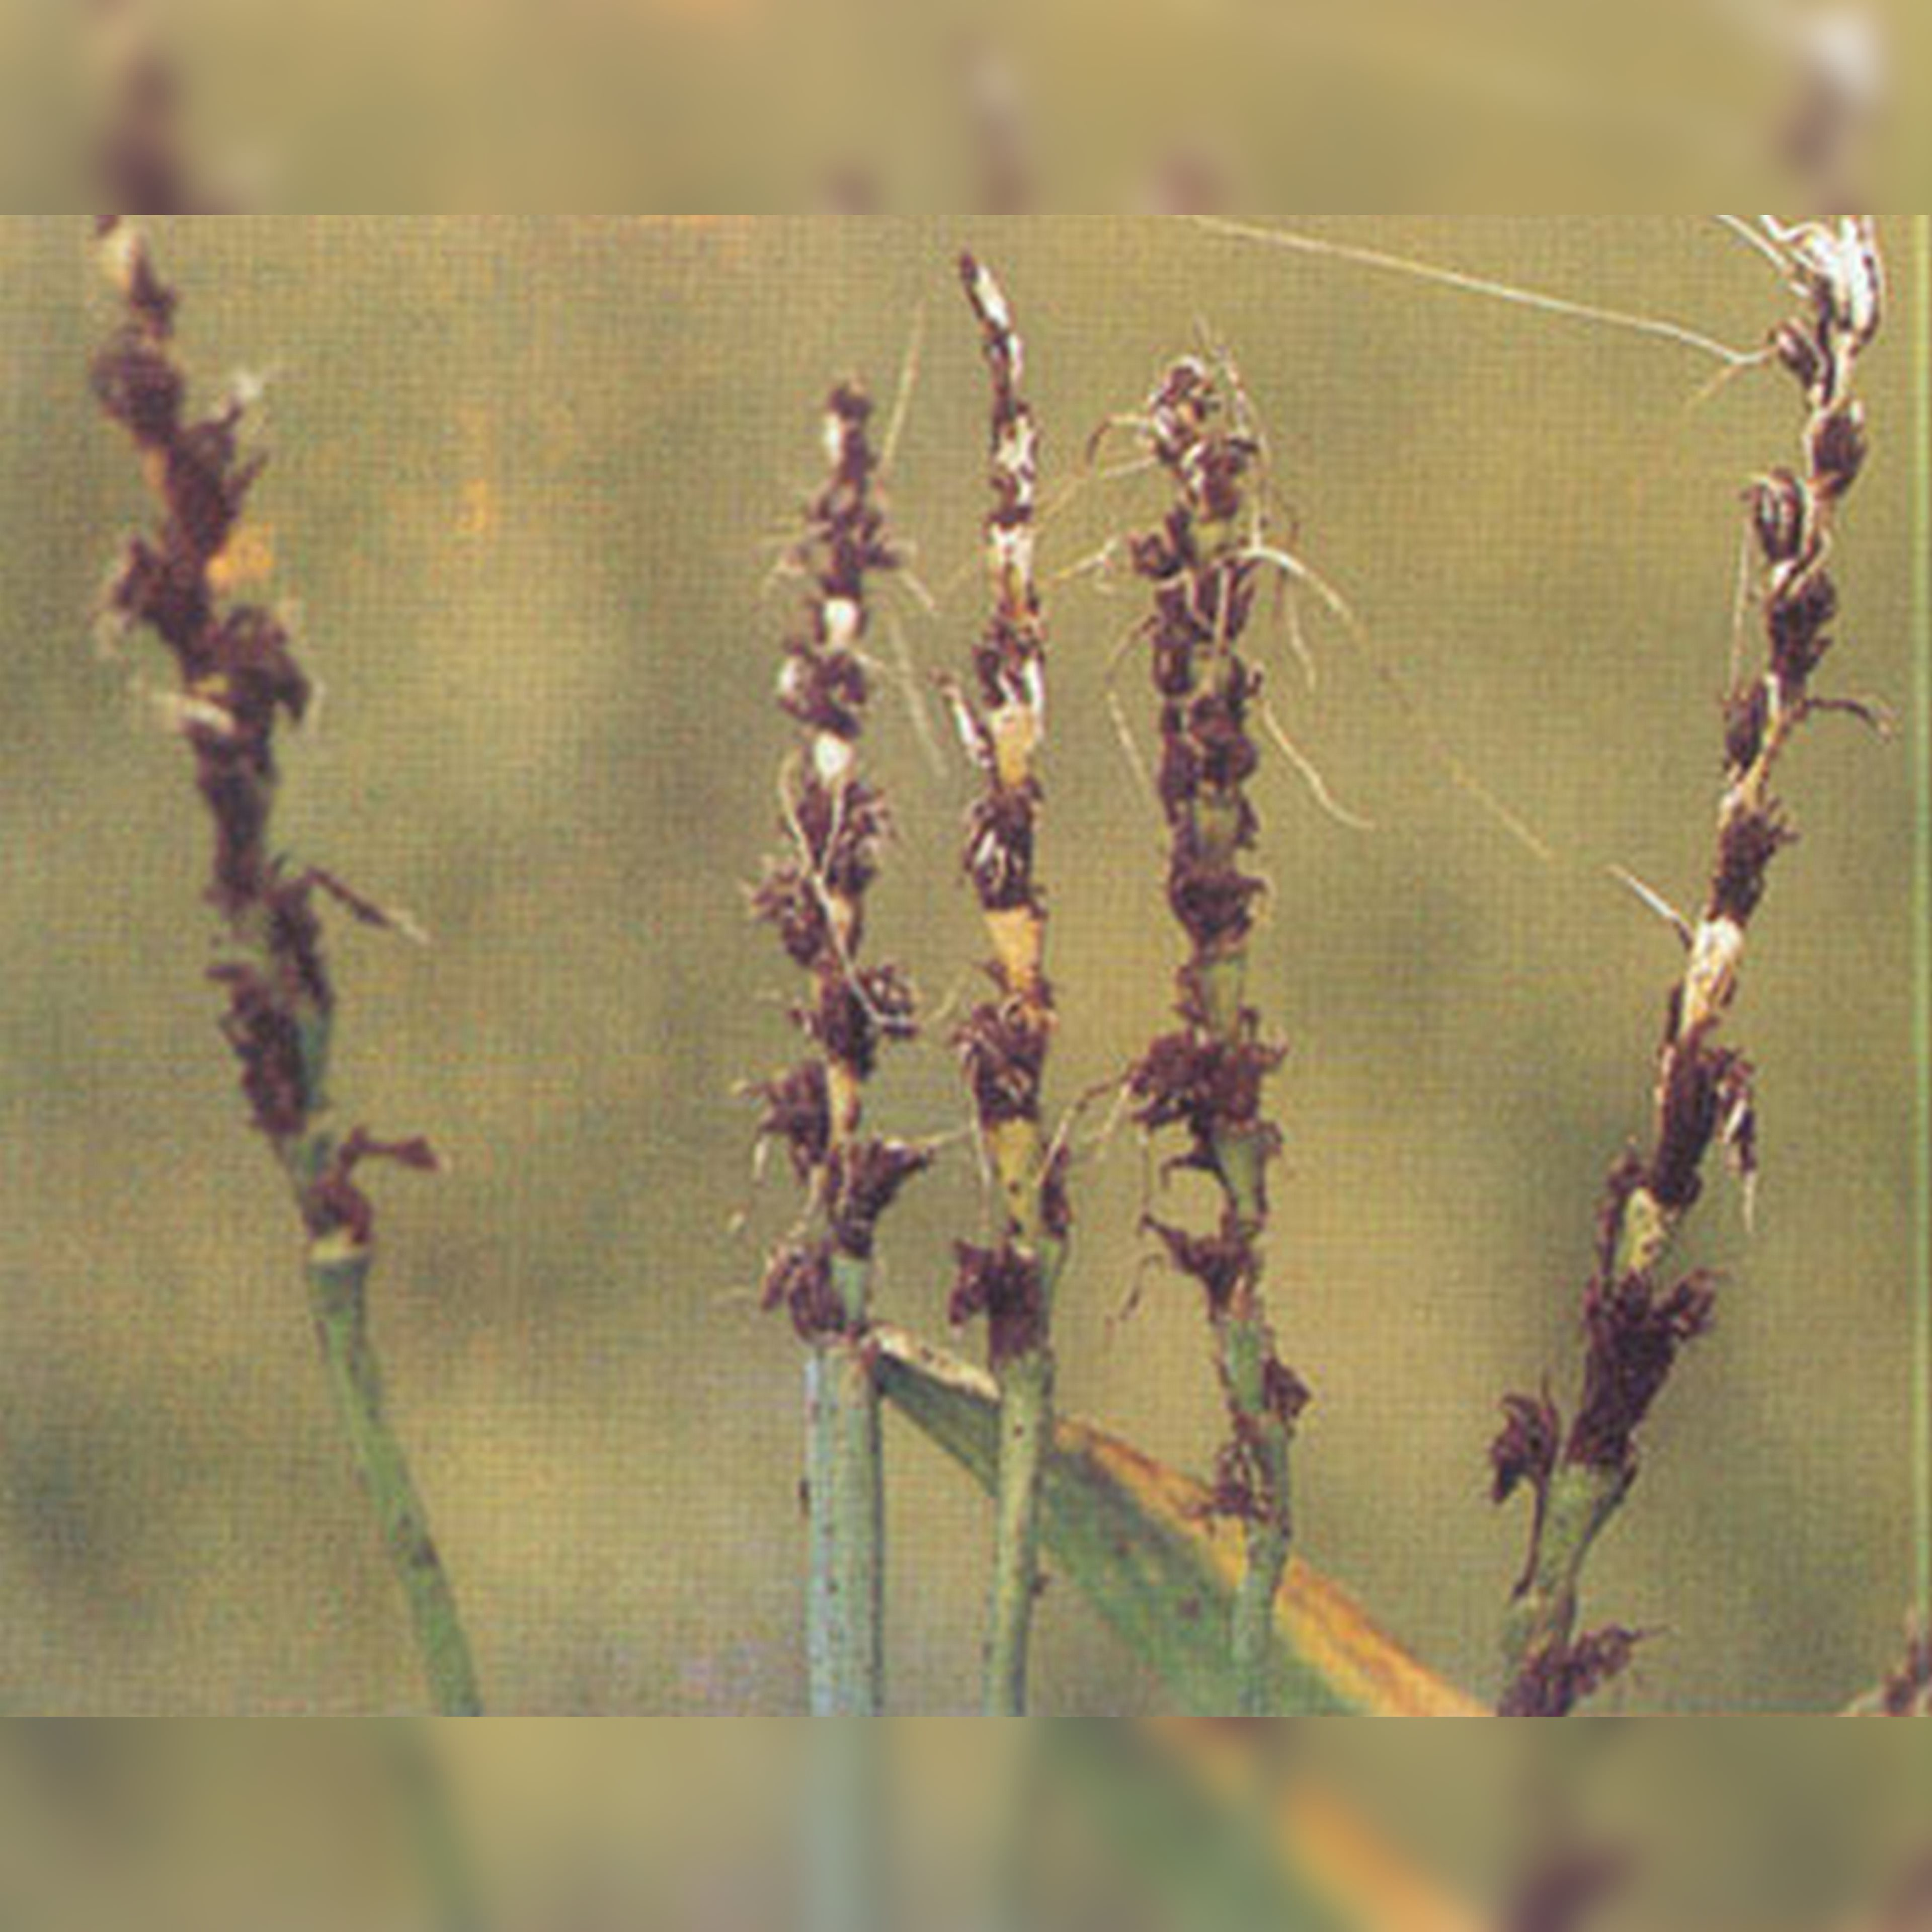Wheat Loose Smut: (715, 318, 1371, 1426)
